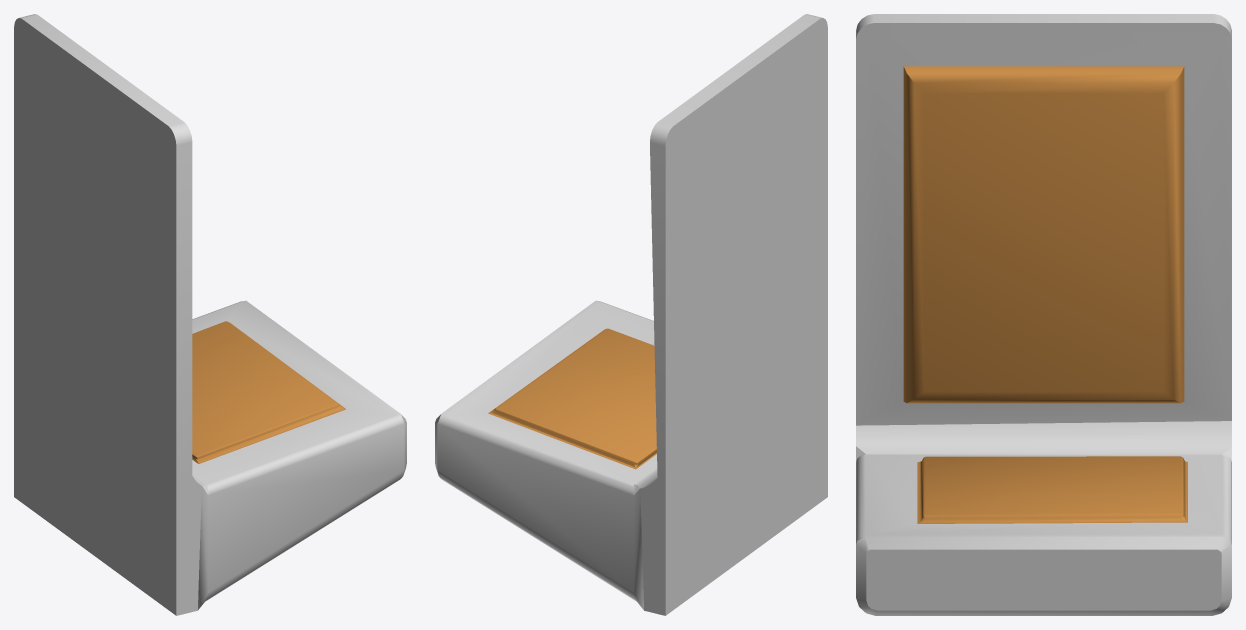
File: sillas para el tren.fbx
3 views of the same model, side by side, from view 1: azimuth 30°, elevation 25°; view 2: azimuth 150°, elevation 25°; view 3: azimuth 270°, elevation 25° (orthographic). The views are drawn at different scales.
Visible parts, largest first — view 1: Cube; view 2: Cube; view 3: Cube.
Boxes of the visible parts, x1,y1,x2,y2 form: Cube: (14,14,406,615); Cube: (435,14,827,615); Cube: (856,14,1231,615).
Size of the model in its own units: 102 by 200 by 122.
